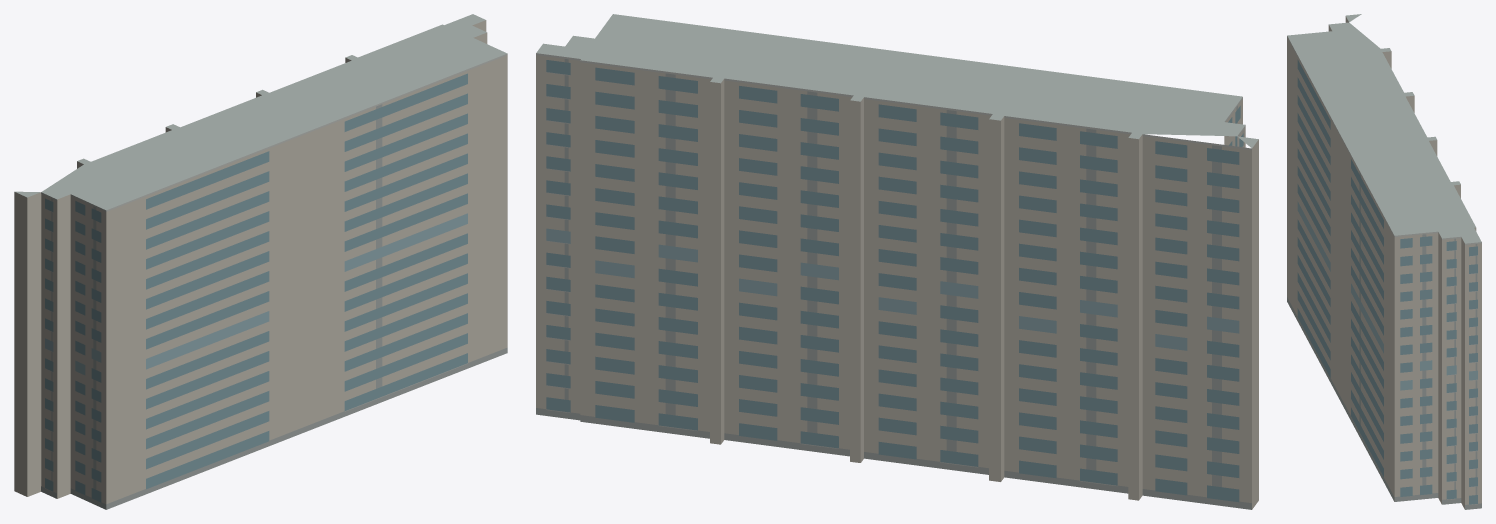
The model's file is residential-68e89728-ab56-48f1-a79e-8203c211d99c.glb.
3 renders of one model, left to right at view 1: azimuth 30°, elevation 25°; view 2: azimuth 150°, elevation 25°; view 3: azimuth 270°, elevation 25°, orthographic. The views are drawn at different scales.
Visible parts, largest first — view 1: residential-68e89728-ab56-48f1-a79e-8203c211d99c.tmp; view 2: residential-68e89728-ab56-48f1-a79e-8203c211d99c.tmp; view 3: residential-68e89728-ab56-48f1-a79e-8203c211d99c.tmp.
Boxes of the visible parts, x1,y1,x2,y2 form: residential-68e89728-ab56-48f1-a79e-8203c211d99c.tmp: [14, 14, 507, 509]; residential-68e89728-ab56-48f1-a79e-8203c211d99c.tmp: [536, 14, 1258, 509]; residential-68e89728-ab56-48f1-a79e-8203c211d99c.tmp: [1287, 14, 1481, 509].
Size of the model in its own units: 84.66 by 45.75 by 30.34.
